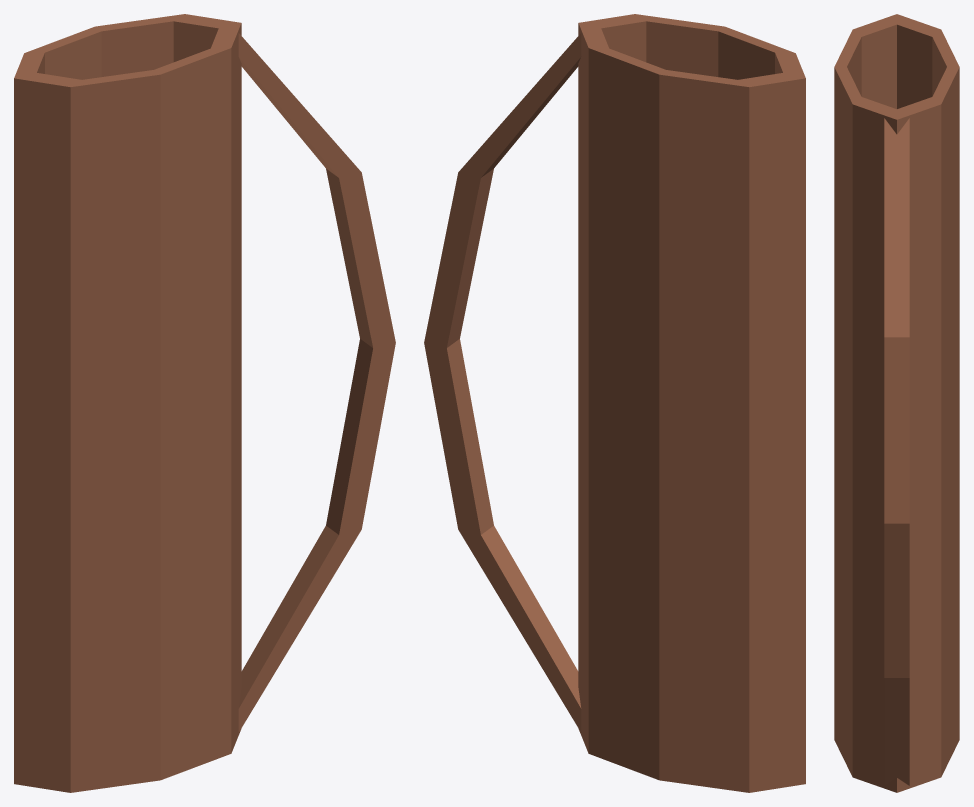
Rendered from quiver.fbx.
The picture shows the model from 3 angles, left to right: view 1: azimuth 30°, elevation 25°; view 2: azimuth 150°, elevation 25°; view 3: azimuth 270°, elevation 25°; orthographic projection. The views are drawn at different scales.
Visible parts, largest first — view 1: Cube.032; view 2: Cube.032; view 3: Cube.032.
Part boxes in pixels (bbox=[...]): Cube.032: bbox=[14, 14, 395, 792]; Cube.032: bbox=[424, 14, 805, 792]; Cube.032: bbox=[834, 14, 959, 792].
Bounding box in the file's own units: 0.33 × 0.593 × 0.1.
